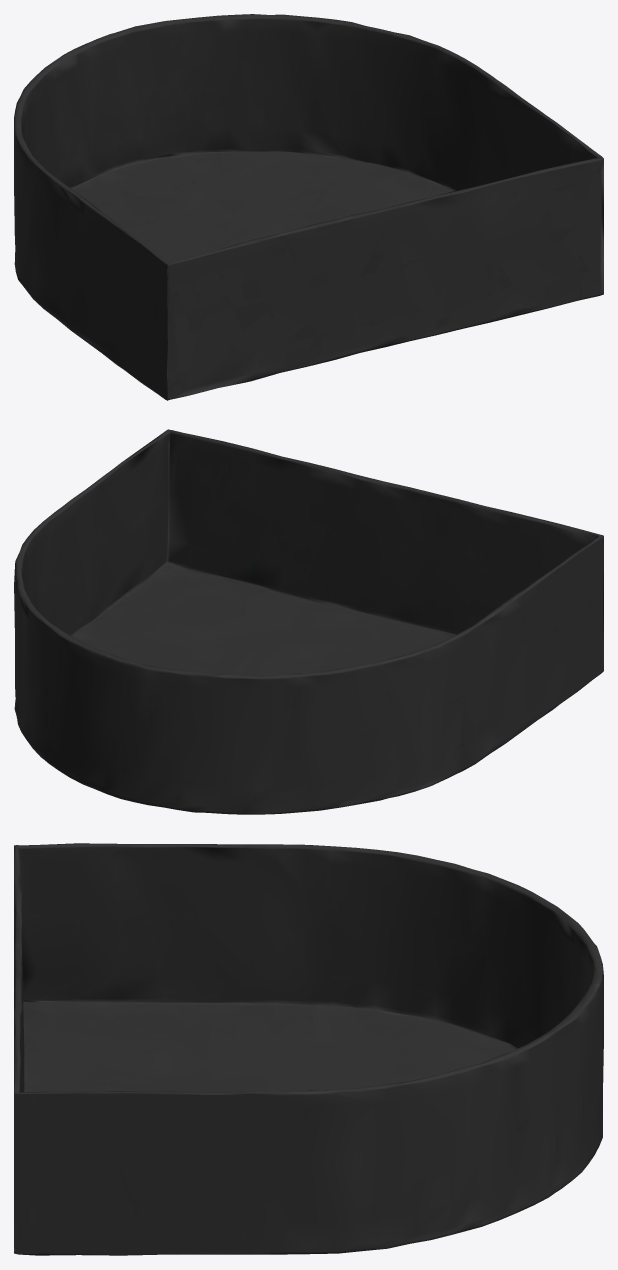
File: citi-base.glb
The picture shows the model from 3 angles, top to bottom: view 1: azimuth 30°, elevation 25°; view 2: azimuth 150°, elevation 25°; view 3: azimuth 270°, elevation 25°; orthographic projection. The views are drawn at different scales.
Visible parts, largest first — view 1: mesh_node; view 2: mesh_node; view 3: mesh_node.
Boxes of the visible parts, x1=… form: mesh_node: x1=14, y1=14, x2=603, y2=400; mesh_node: x1=14, y1=429, x2=603, y2=814; mesh_node: x1=14, y1=843, x2=603, y2=1255.
Bounding box in the file's own units: 1 × 0.3067 × 1.
Materials: 1 (1 with a texture image).
